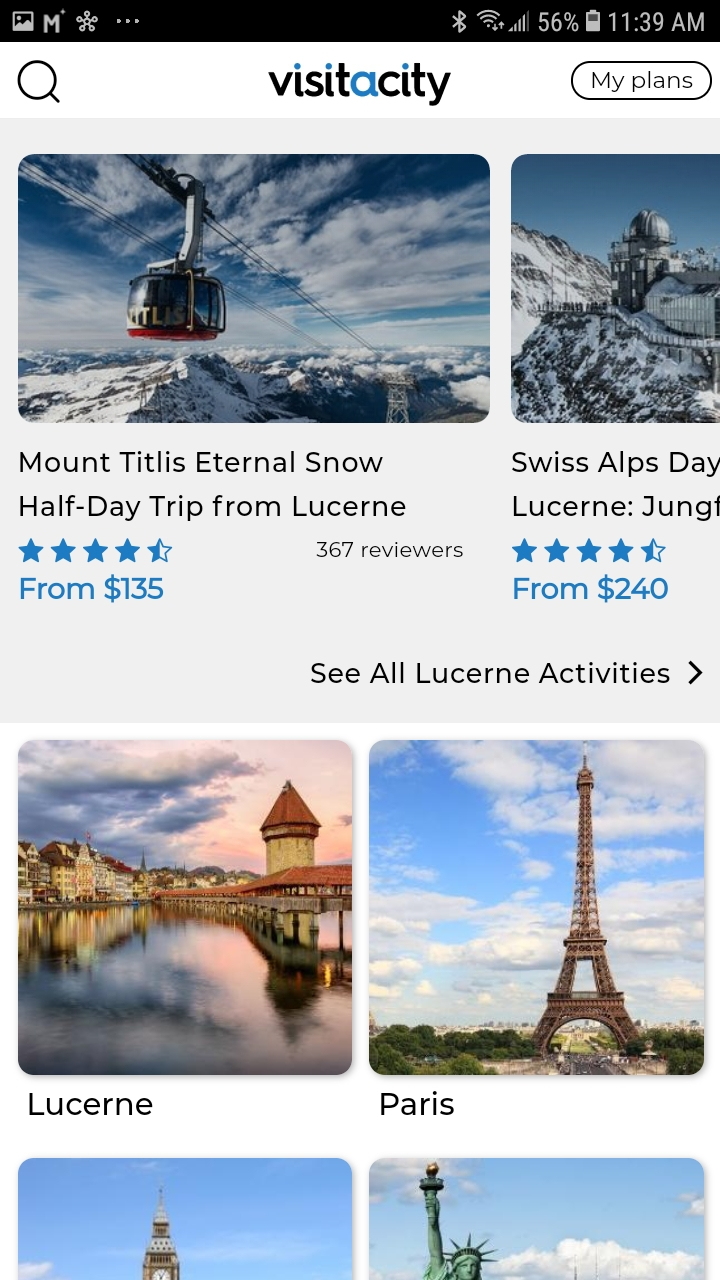Icon: (18, 537, 173, 563), (512, 538, 667, 563), (18, 61, 61, 105), (687, 660, 703, 685)
Image: (19, 154, 491, 424), (369, 740, 704, 1076), (19, 740, 354, 1076), (511, 155, 720, 424), (18, 1157, 353, 1280), (369, 1158, 704, 1280), (268, 63, 452, 107)
Text: (20, 451, 407, 522), (511, 451, 720, 522), (312, 662, 671, 685), (514, 574, 669, 604), (21, 574, 163, 603), (30, 1092, 154, 1116), (316, 542, 464, 559), (381, 1091, 454, 1115)
TextButton: (571, 62, 713, 102)
UpperTaskBar: (1, 1, 720, 43)
